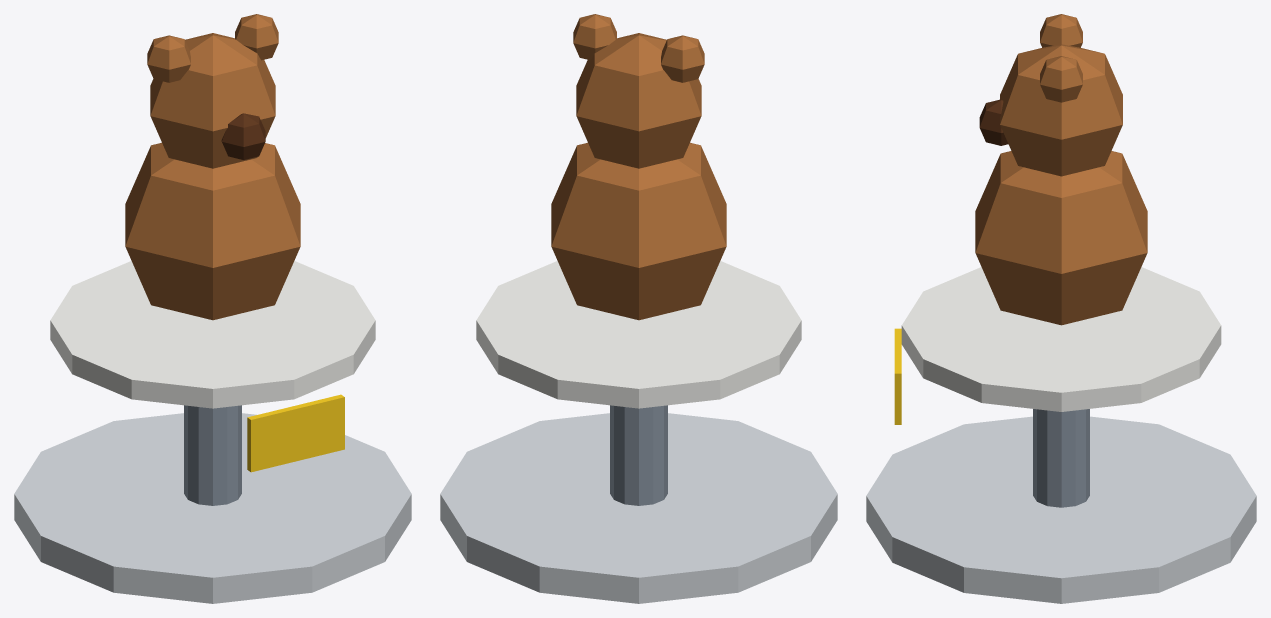
Rendered from item-teddy_bear.glb.
3 renders of one model, left to right at view 1: azimuth 30°, elevation 25°; view 2: azimuth 150°, elevation 25°; view 3: azimuth 270°, elevation 25°, orthographic.
Parts seen in each view (by area): view 1: item-teddy_bear; view 2: item-teddy_bear; view 3: item-teddy_bear.
Part boxes in pixels (box(x1,y1,x2,y2)): item-teddy_bear: box(14, 14, 411, 603); item-teddy_bear: box(440, 14, 837, 603); item-teddy_bear: box(866, 14, 1256, 603).
Bounding box in the file's own units: 1.1 × 1.51 × 1.1.
